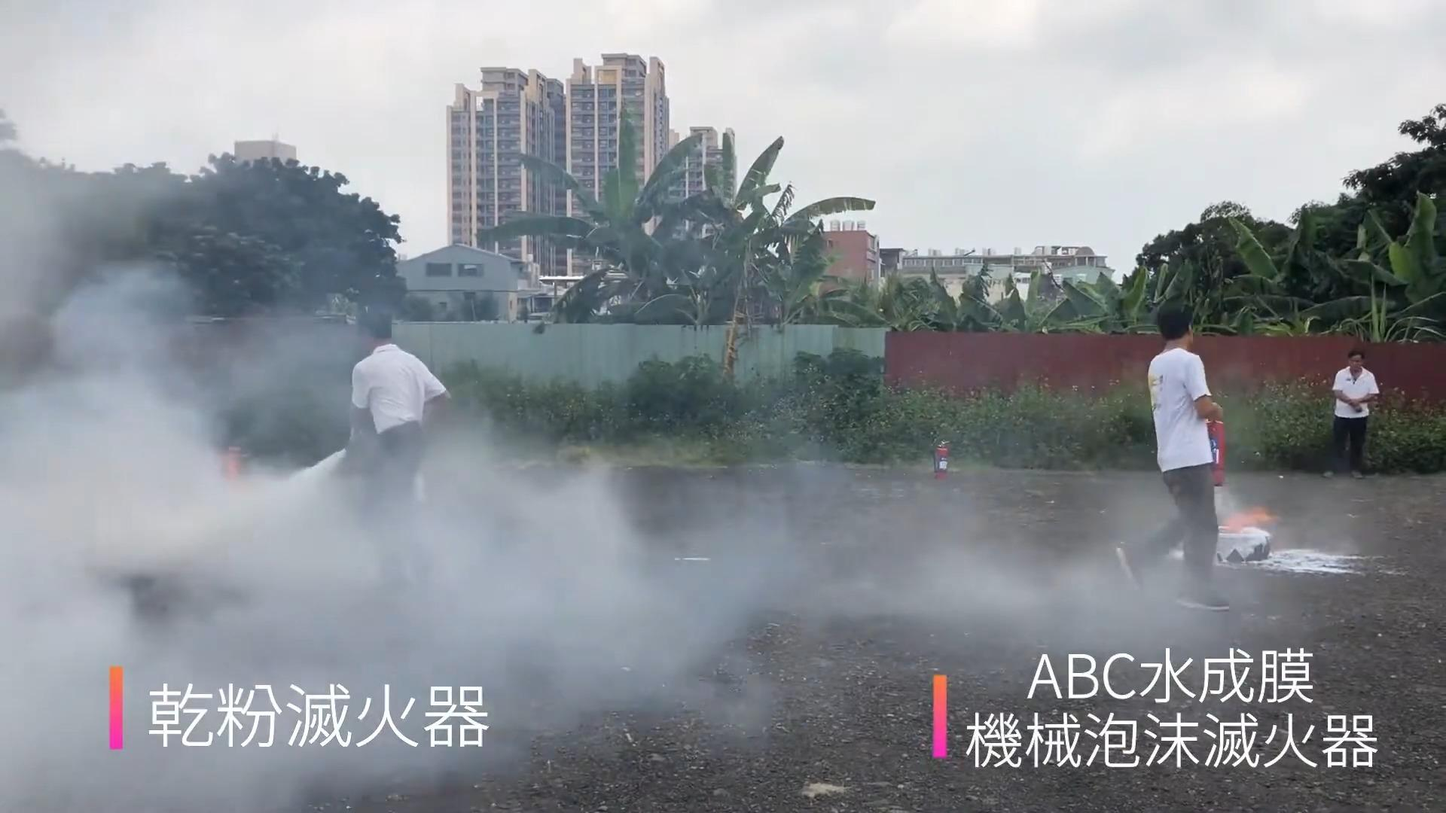FireExtinguisher: (1196, 407, 1228, 497), (927, 433, 954, 494)
not: (806, 228, 884, 296), (95, 665, 143, 755), (885, 333, 944, 398), (923, 667, 954, 765), (1225, 505, 1301, 535)
